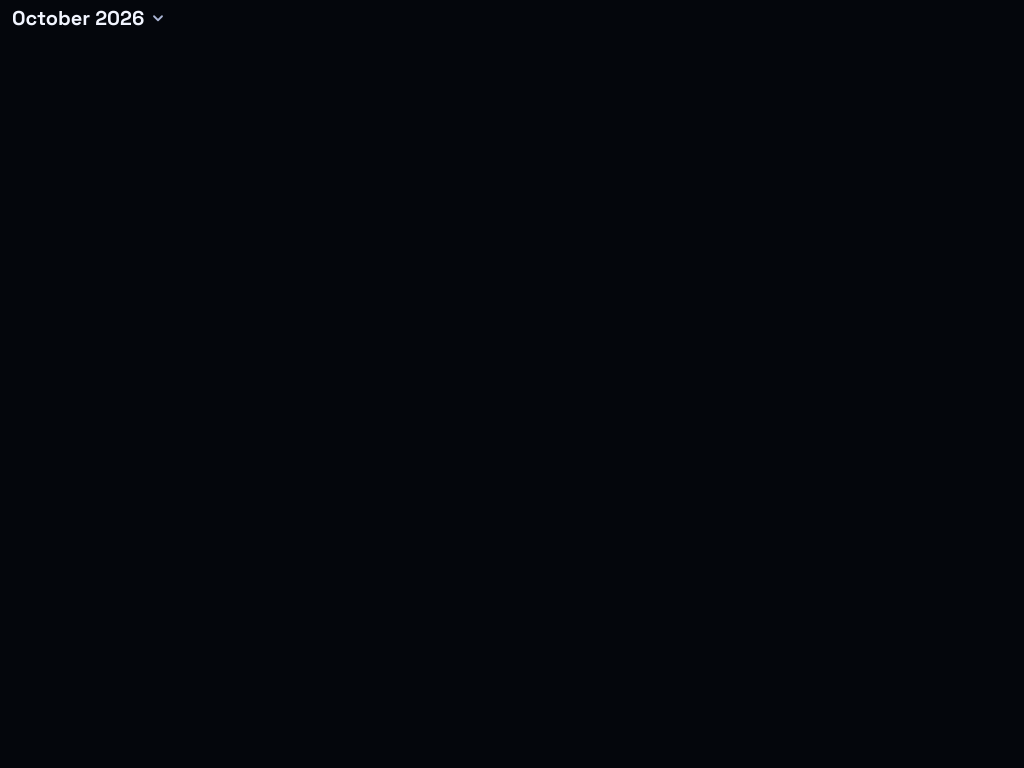
Test: MonthPicker (calendário de um mês) › marca hoje e não deixa choose days futuros
This screenshot has width=1024, height=768.
Click the button with aria-label "October 2026 — choose day": (88, 18) [0, 0, 176, 36]
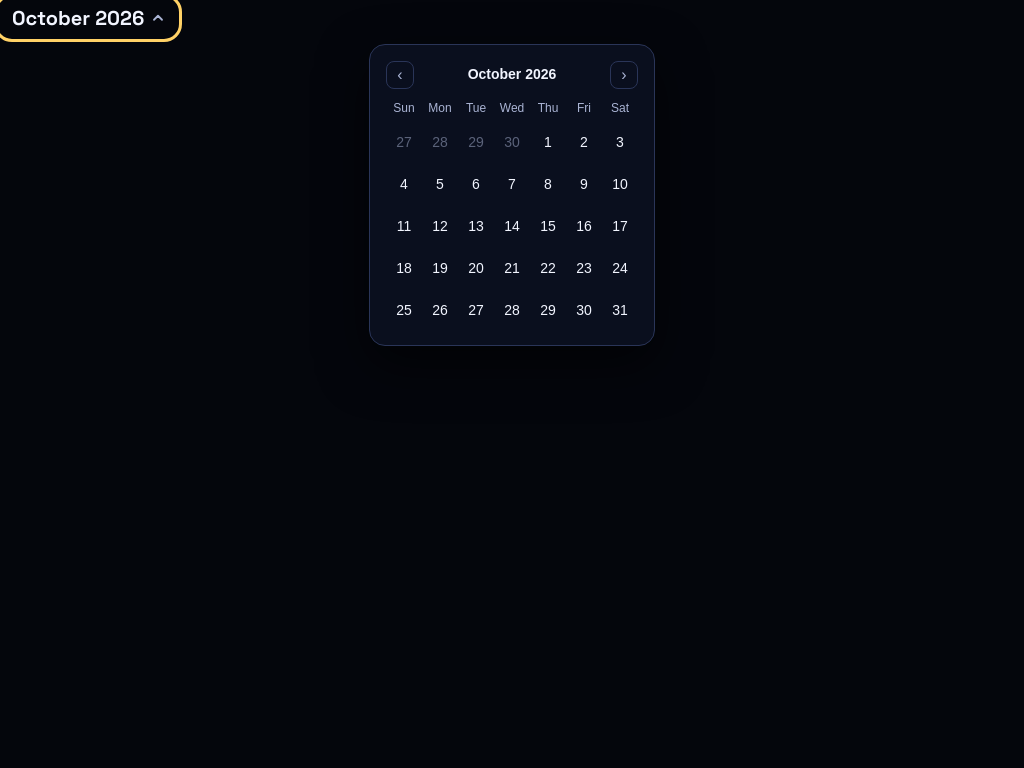
Click the button named "Next month": (624, 75) [610, 61, 638, 89]
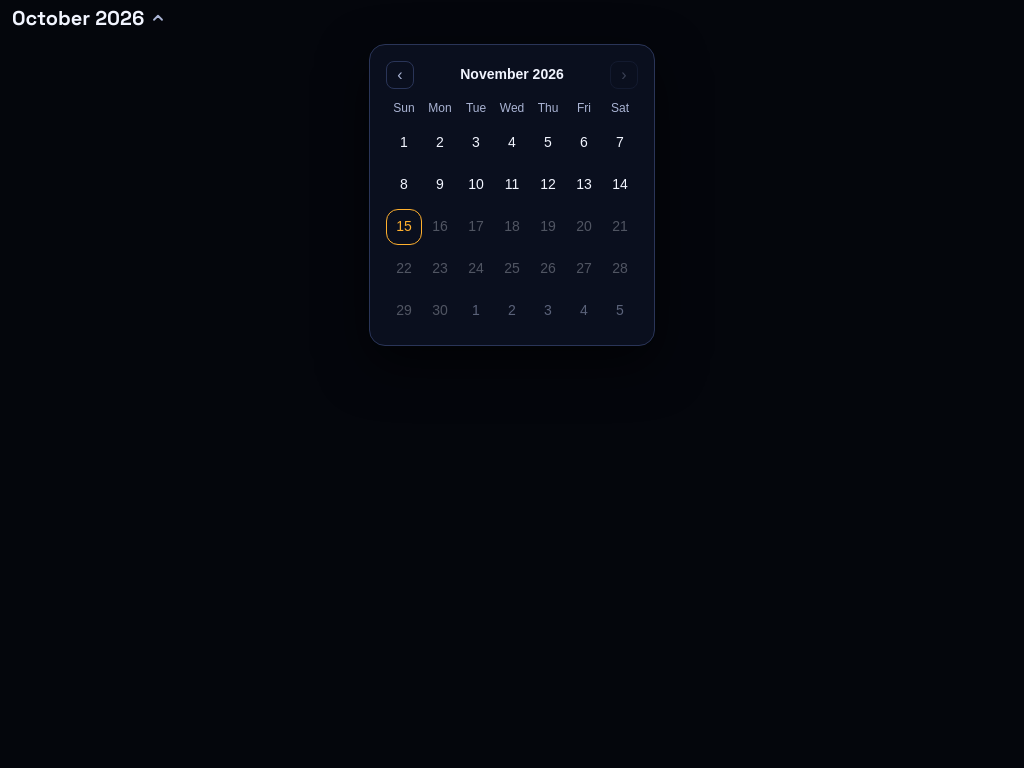
Now the button named "November 16, 2026" is disabled, box [422, 209, 458, 245]
